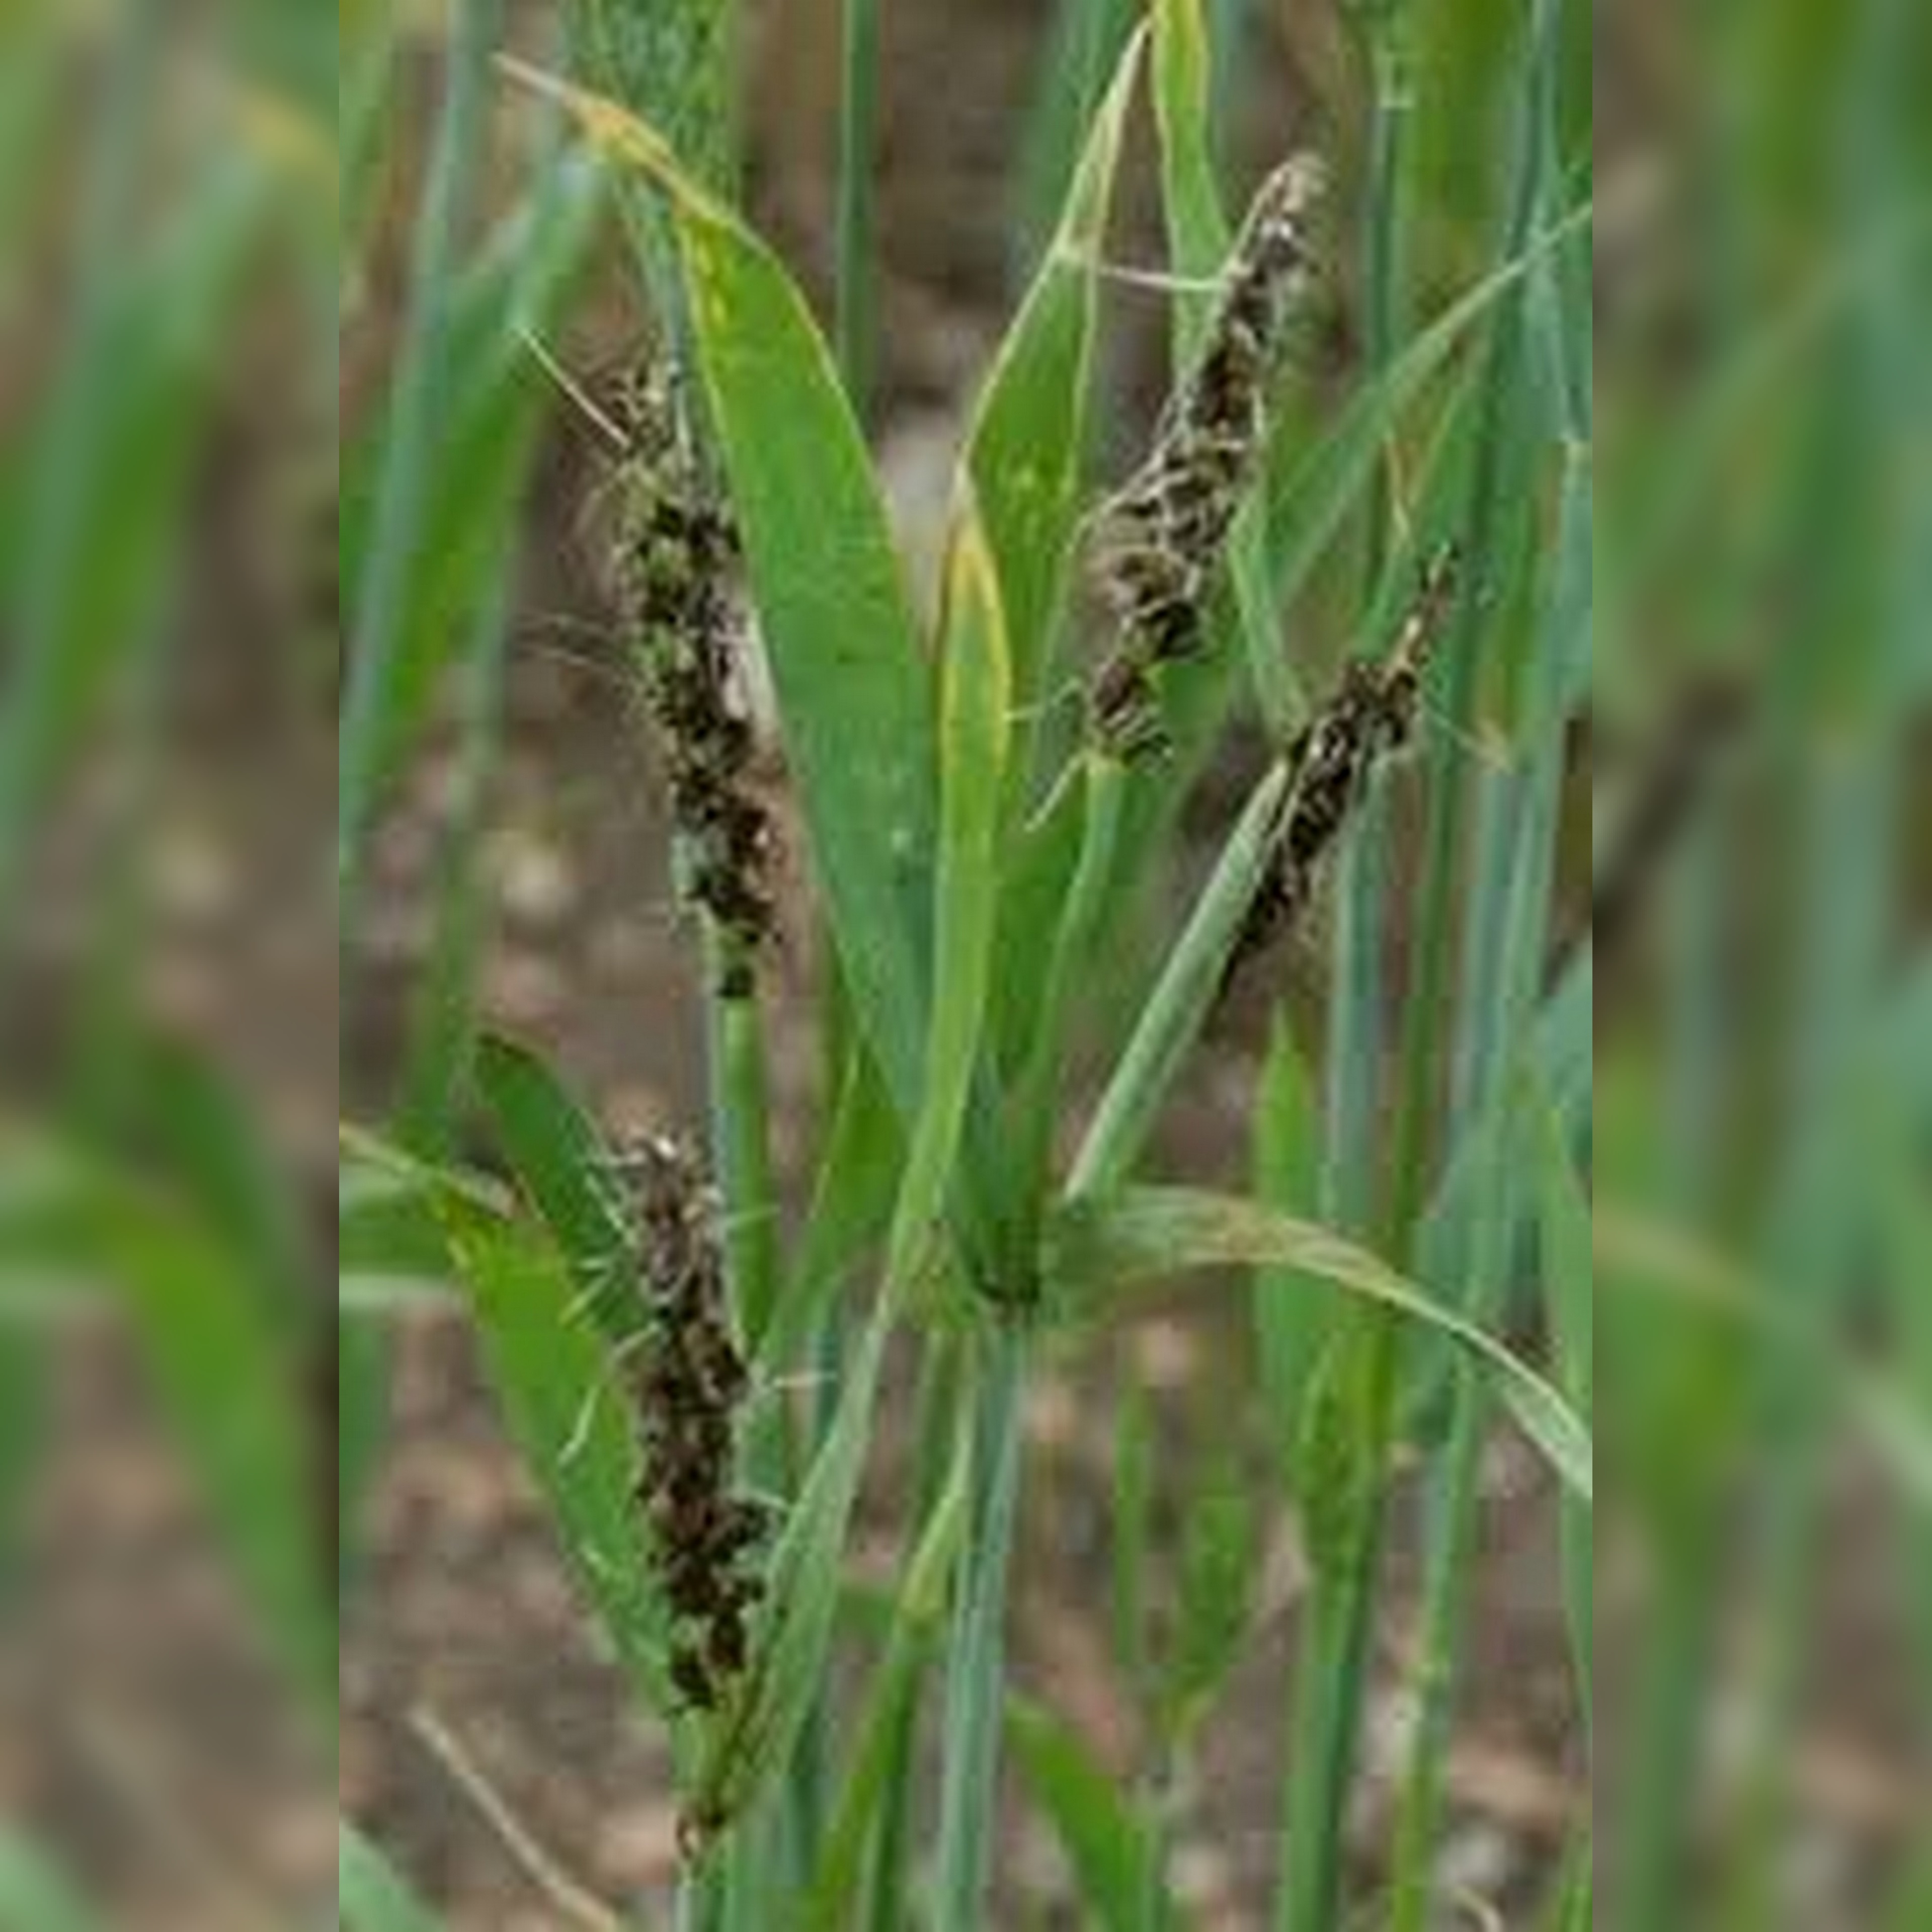Wheat Loose Smut: (1074, 127, 1447, 959), (573, 1100, 786, 1670)
